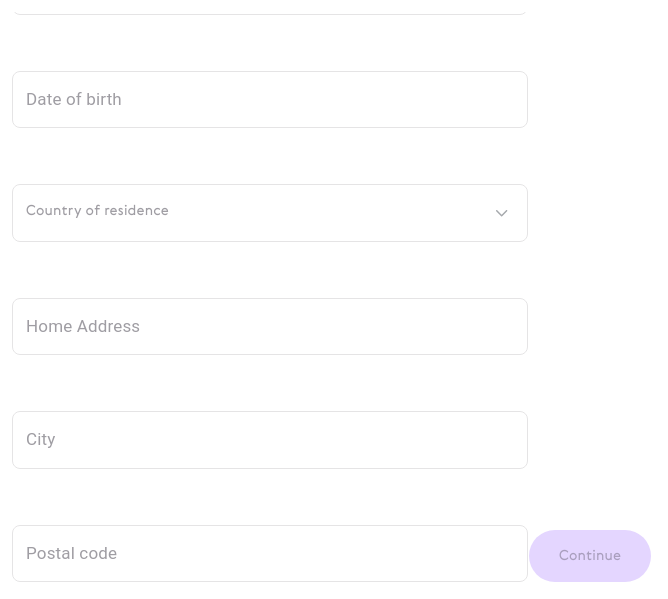
Test case: Fill user details › addressInput text field should show the helper text
The image size is (668, 599).
(page scrolled)
Type "123 Main St" into the field labelled "Home Address" at point(270, 326), box [12,298,528,355]
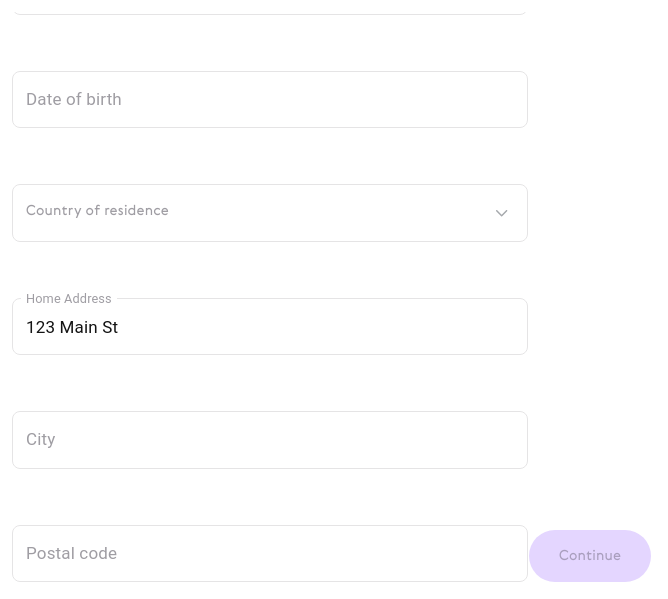
Clear the field labelled "Home Address" at point(270, 326), box [12,298,528,355]
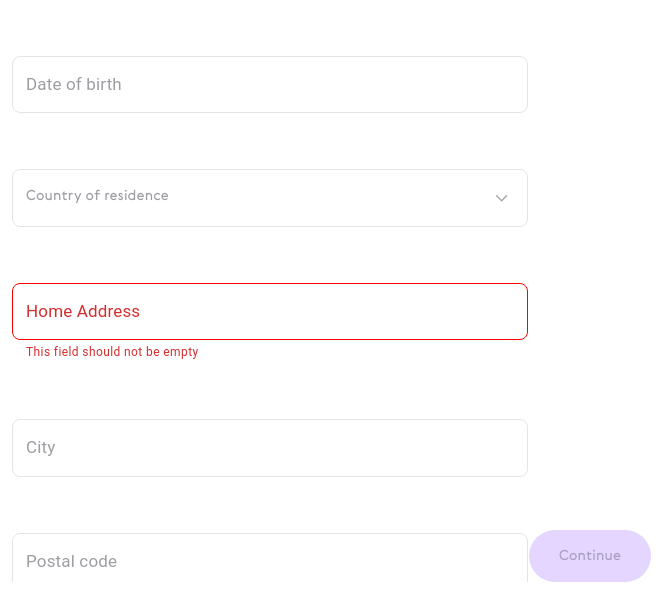
Expected: the text "This field should not be empty" is shown, [26,345,199,359]
